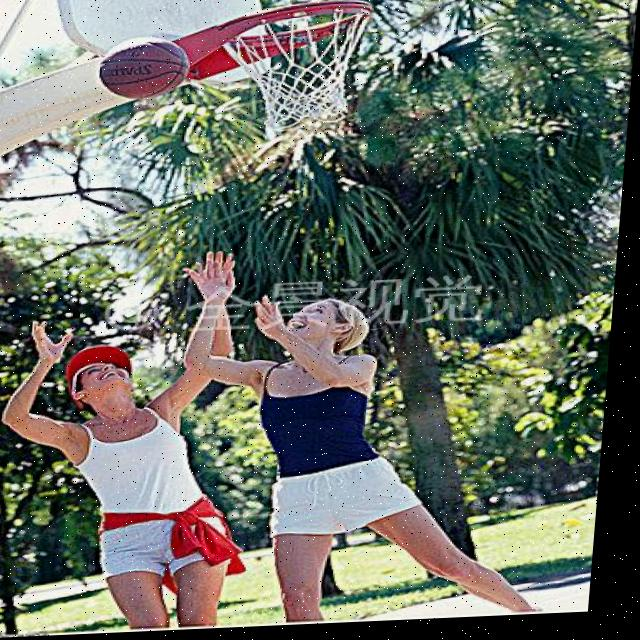basketball: (99, 38, 190, 99)
hoop: (208, 0, 369, 133)
